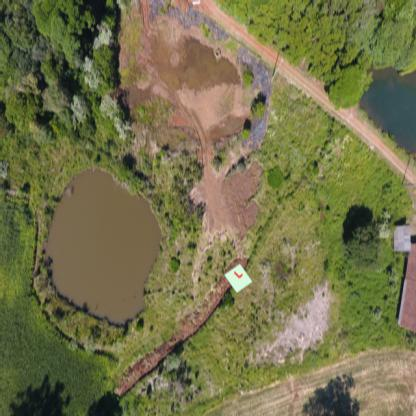L: (234, 270, 244, 280)
rectangle: (225, 262, 253, 292)
